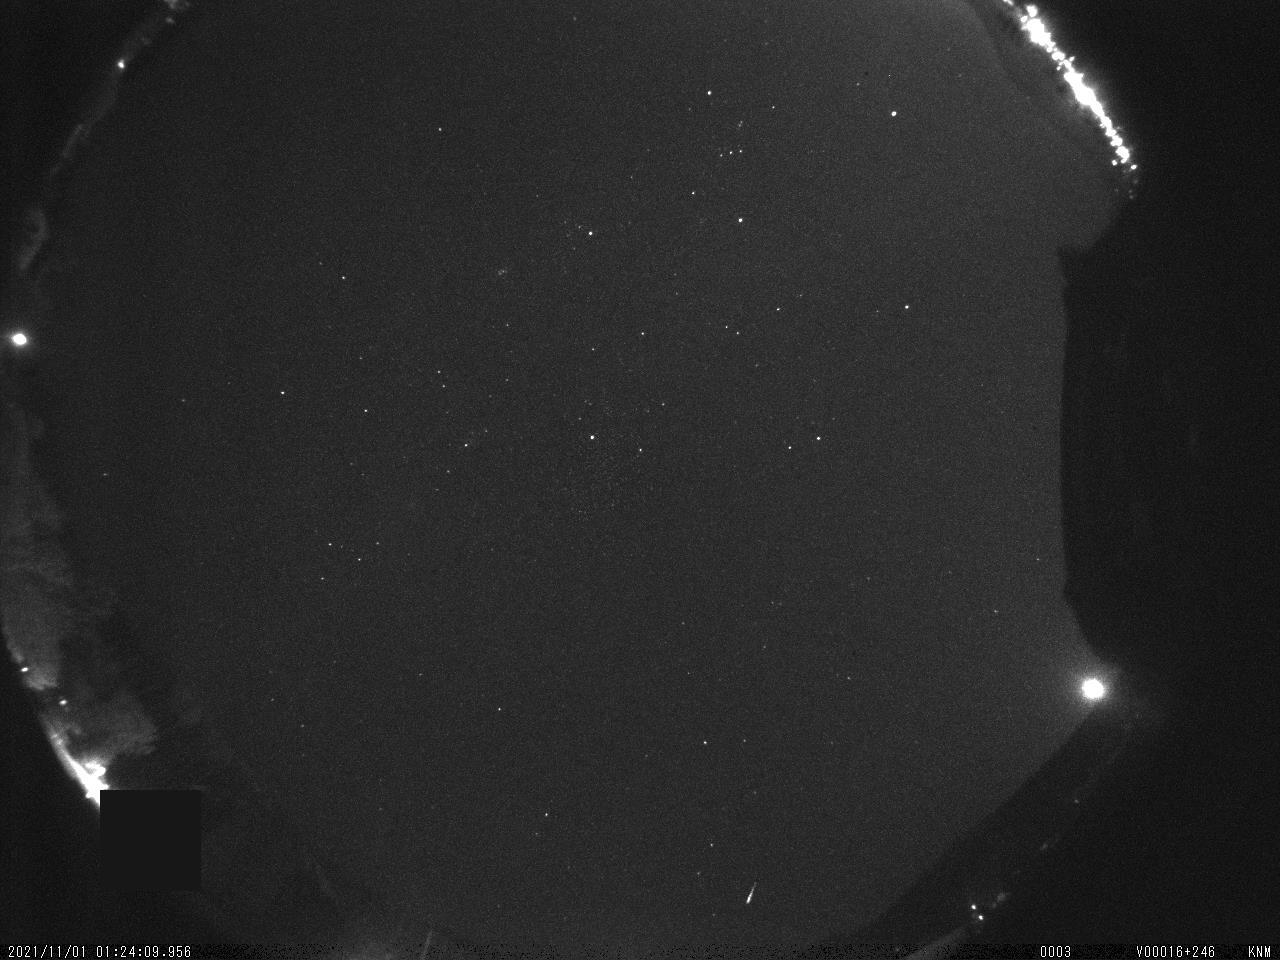meteor: (742, 880, 761, 913)
